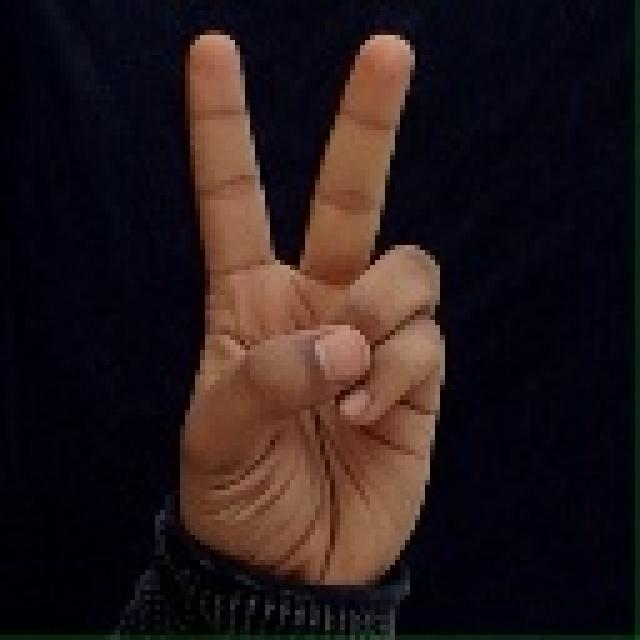No: (152, 14, 460, 604)
